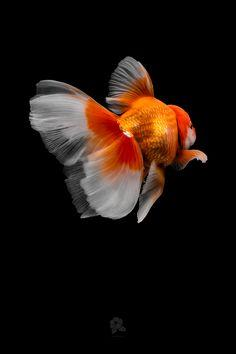goldfish: (33, 64, 221, 237)
